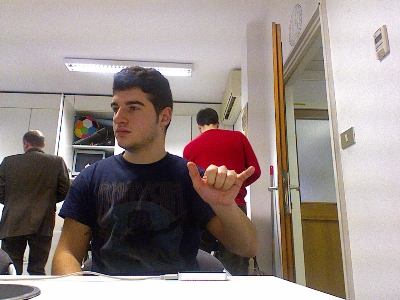六六六: (184, 159, 255, 210)
